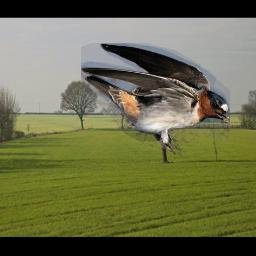Swallow: (81, 43, 230, 155)
